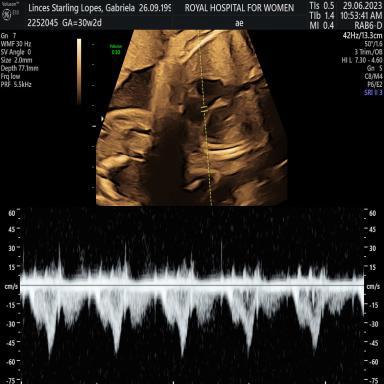Ultrasound-Waves: (23, 212, 363, 378)
